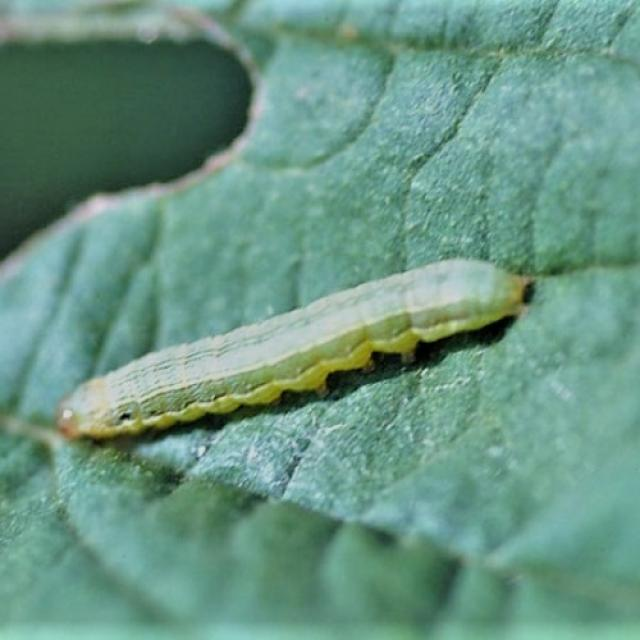armyworm: (52, 253, 536, 443)
